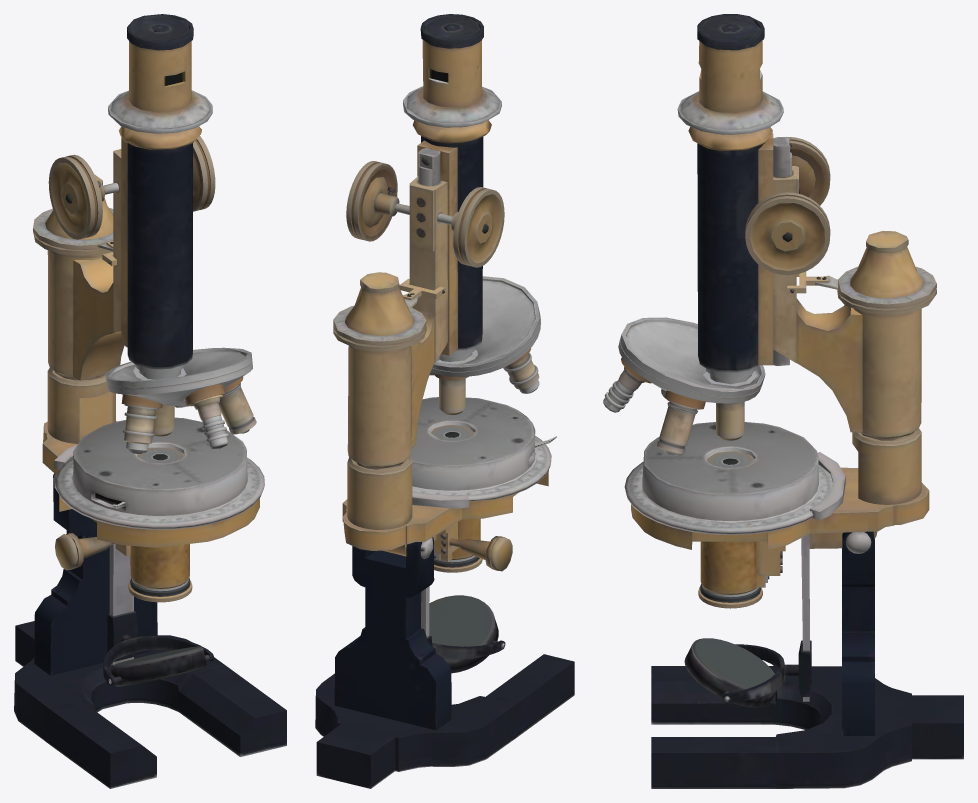
File: vintage_microscope.glb
3 views of the same model, side by side, from view 1: azimuth 30°, elevation 25°; view 2: azimuth 150°, elevation 25°; view 3: azimuth 270°, elevation 25° (orthographic). The views are drawn at different scales.
Parts seen in each view (by area): view 1: vintage_microscope_mirror_arm, vintage_microscope_mirror_base; view 2: vintage_microscope_mirror_arm, vintage_microscope_mirror_base; view 3: vintage_microscope_mirror_arm, vintage_microscope_mirror_base.
Part boxes in pixels (left/top/right/bottom): vintage_microscope_mirror_arm: left=14, top=14, right=286, bottom=788; vintage_microscope_mirror_base: left=111, top=646, right=205, bottom=686; vintage_microscope_mirror_arm: left=315, top=14, right=574, bottom=788; vintage_microscope_mirror_base: left=429, top=595, right=494, bottom=661; vintage_microscope_mirror_arm: left=603, top=14, right=963, bottom=788; vintage_microscope_mirror_base: left=689, top=638, right=774, bottom=707.
Size of the model in its own units: 0.1068 by 0.3996 by 0.1818.
Materials: 2 (2 with a texture image).
